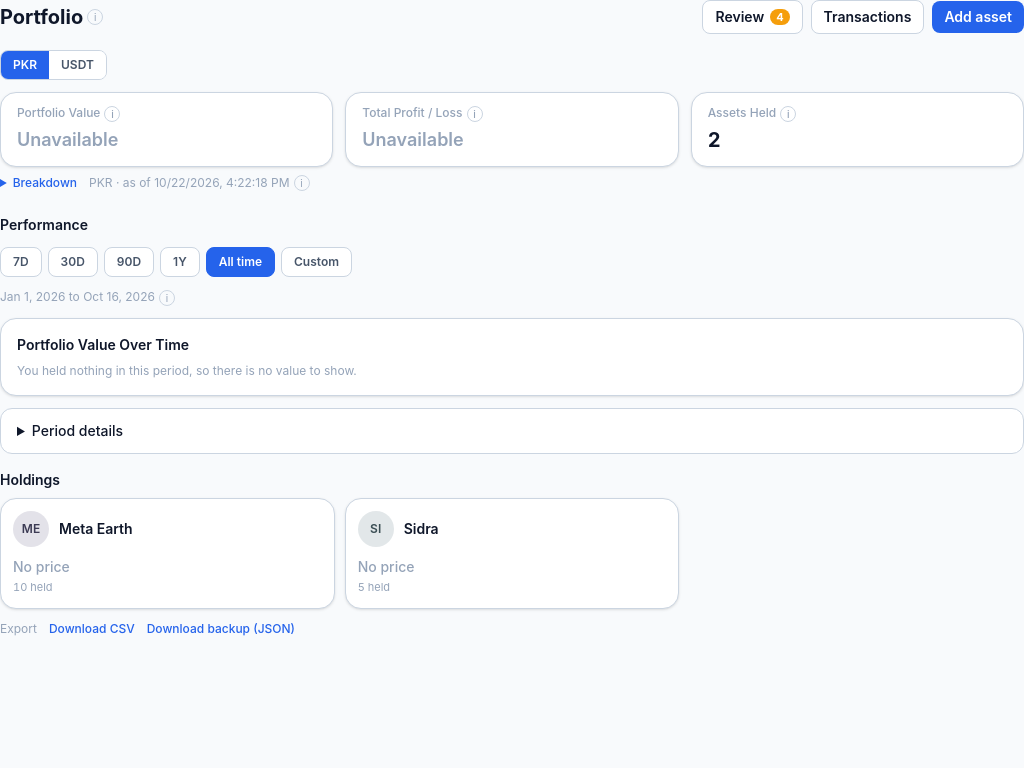
Scenario: Review center › Add price opens that token straight on the price form, without creating anything
The image size is (1024, 768).
Click the button "Review 4" at (753, 17), box top-left (702, 0), bottom-right (803, 34)
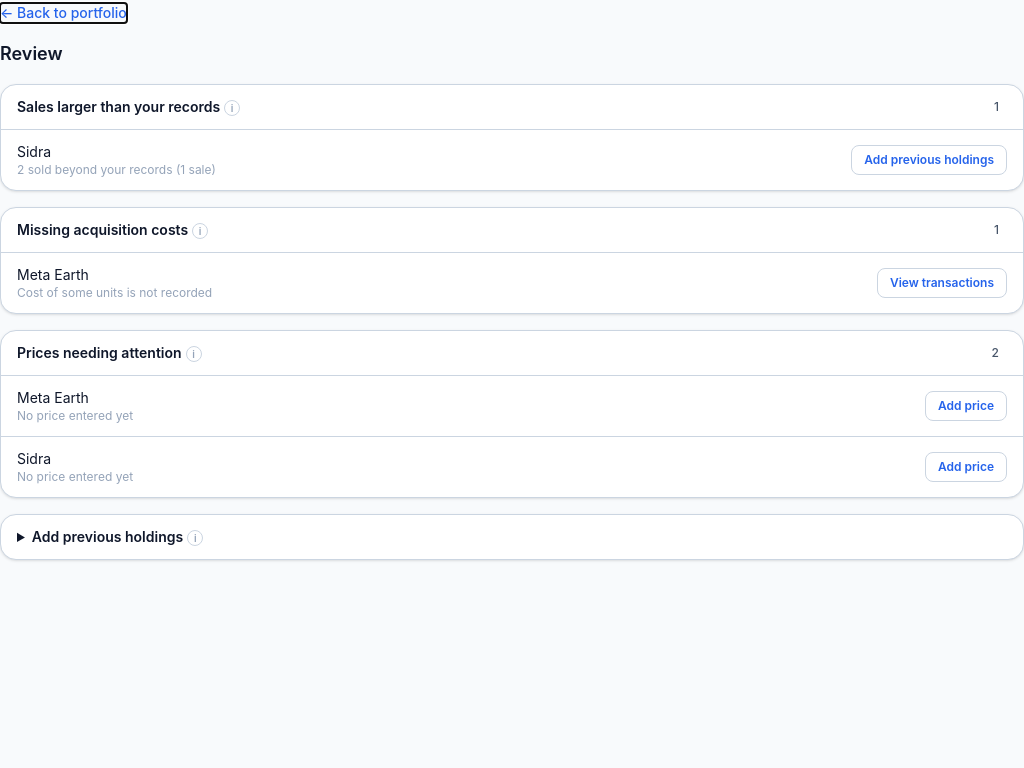
Click the button with aria-label "Add price: Meta Earth" at (966, 406), box top-left (925, 391), bottom-right (1007, 421)
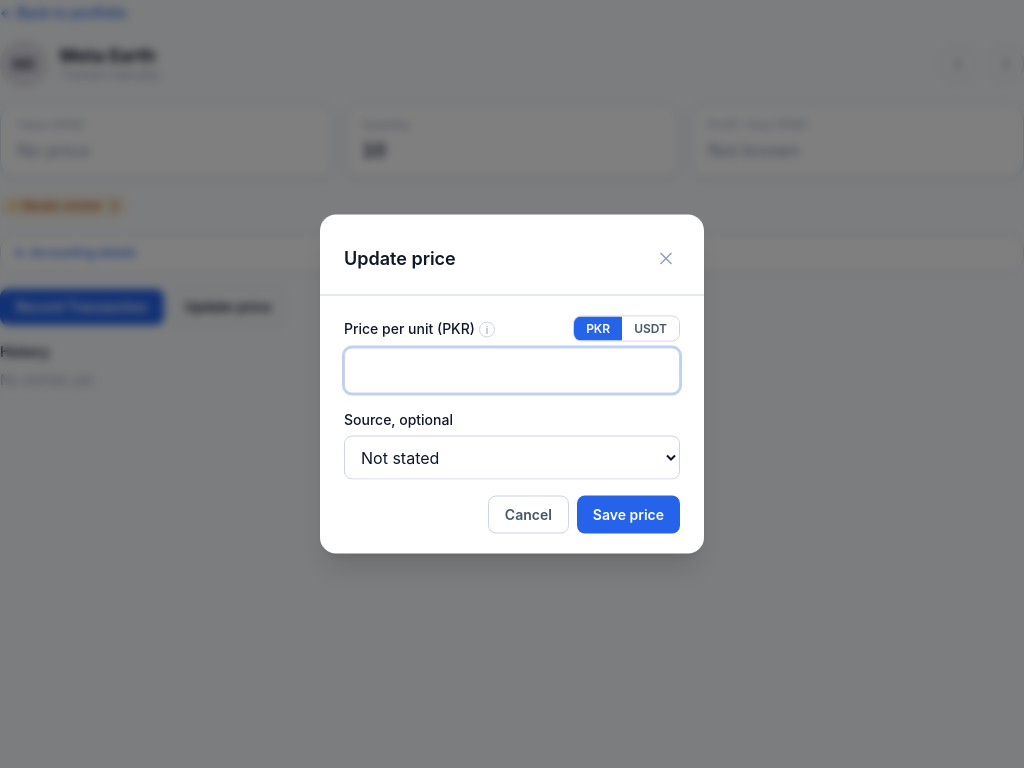
Check: the field labelled "Price per unit (PKR) i" is shown, box top-left (344, 348), bottom-right (680, 394)
